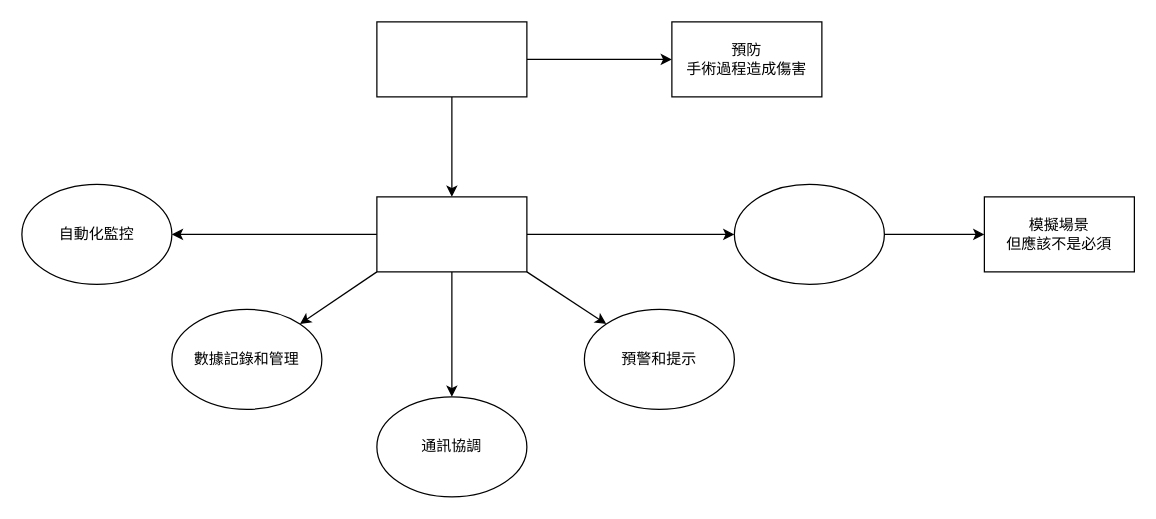
Image size: 1156x519. Some labels were removed from this diagram. Here are the shapes that lost their labels. From the top down, the centre of each, then its label:
the point at 451,59: 手術中護理
the point at 451,234: 保護病人度過手術
the point at 808,233: 教育和培訓
